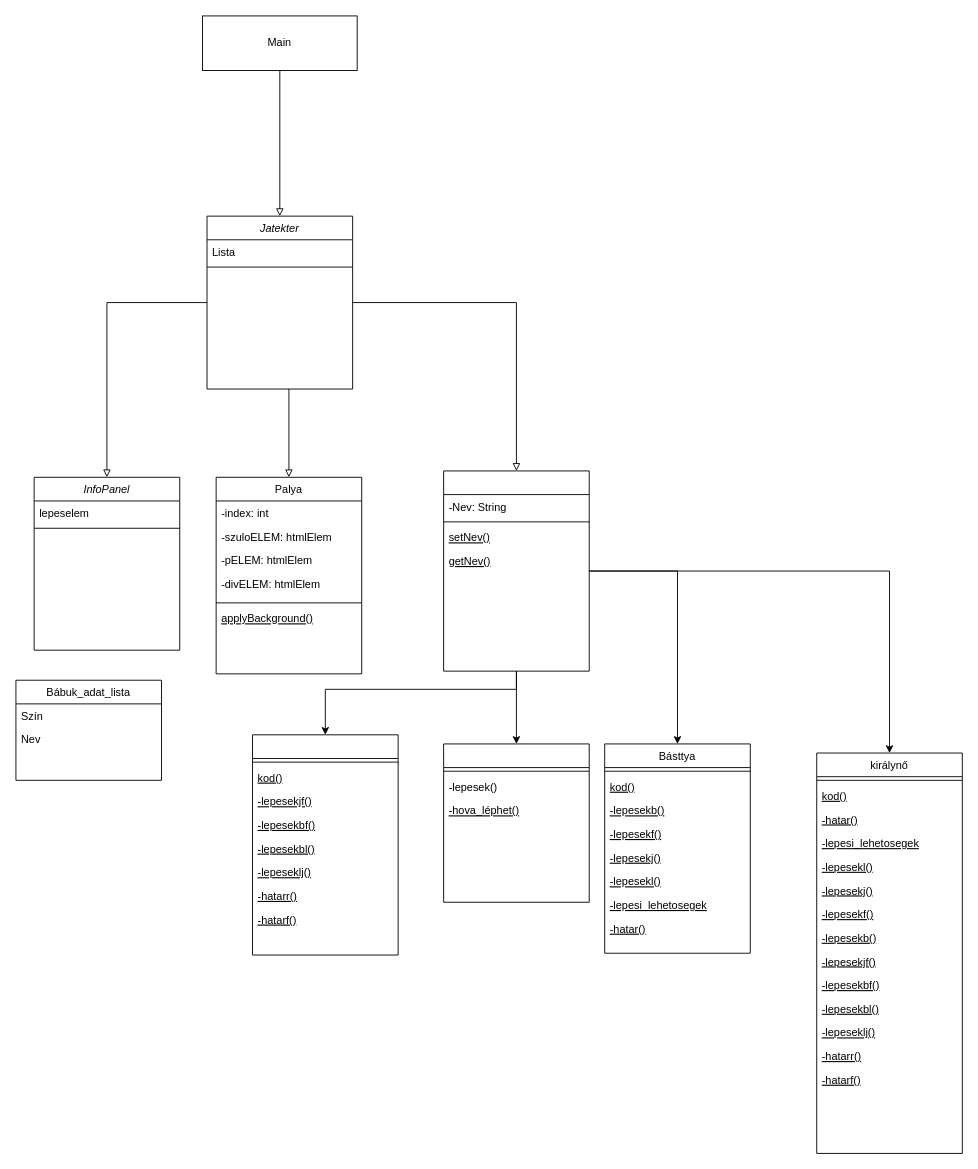
The diagram is 978 pixels wide and 1169 high, and some of its shapes have lost their labels. The box of each missing label's shape, as (x1, y1, x2, y2) in pixels:
Bábu: (443, 470, 589, 671)
Futo: (252, 734, 398, 955)
Paraszt: (443, 743, 589, 902)
